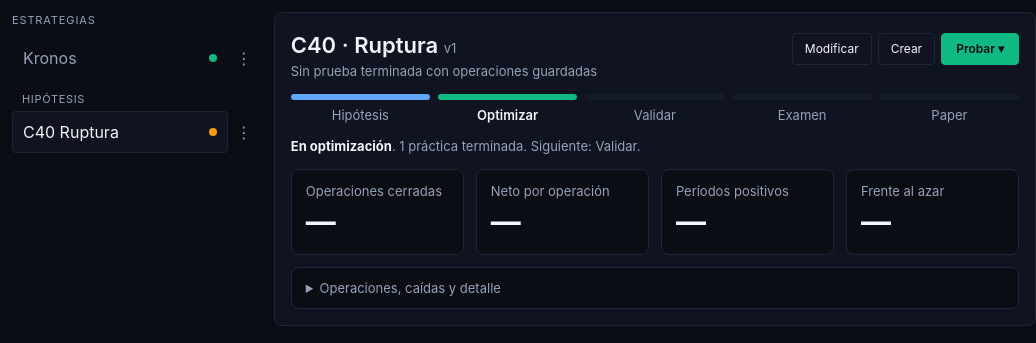
Test: StrategiesPage menu › offers only detalles on Kronos, which is never edited or deleted here
Expected: the navigation bar named "Lista de estrategias" is shown, [12,12,258,153]
Step 1. Click the 1st button "⋮" → (244, 58), box [230,36,258,78]
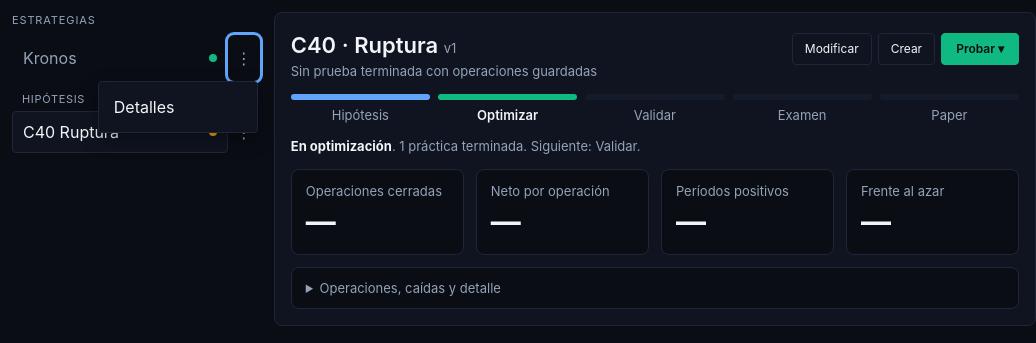
Expected: the number of menu items is 1, [103,86,253,128]
